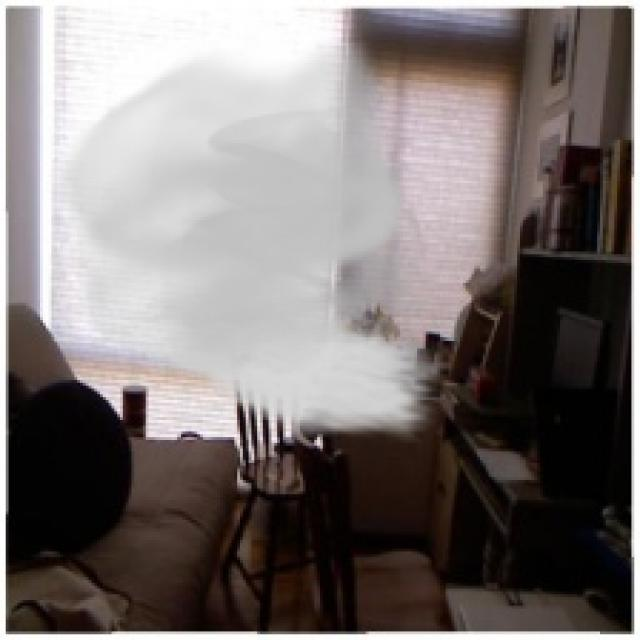smoke: (46, 40, 451, 443)
